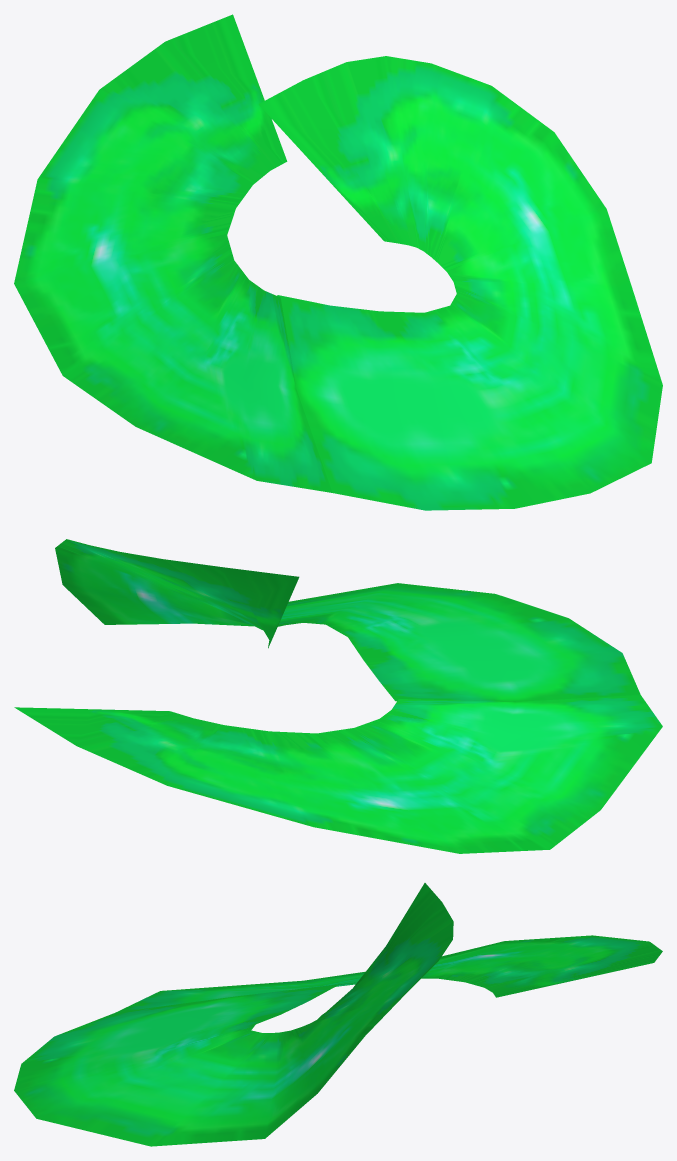
File: effect_liubei_self_4.FBX
The picture shows the model from 3 angles, top to bottom: view 1: azimuth 30°, elevation 25°; view 2: azimuth 150°, elevation 25°; view 3: azimuth 270°, elevation 25°; orthographic projection. The views are drawn at different scales.
Visible parts, largest first — view 1: effect_liubei_self_4_1, effect_liubei_self_4_2; view 2: effect_liubei_self_4_2, effect_liubei_self_4_1; view 3: effect_liubei_self_4_1, effect_liubei_self_4_2.
Part boxes in pixels (<box>): effect_liubei_self_4_1: <box>258,56,662,510</box>; effect_liubei_self_4_2: <box>14,14,332,492</box>; effect_liubei_self_4_2: <box>14,695,662,853</box>; effect_liubei_self_4_1: <box>55,539,640,701</box>; effect_liubei_self_4_1: <box>14,883,453,1146</box>; effect_liubei_self_4_2: <box>116,935,662,1012</box>.
Size of the model in its own units: 328 by 143 by 464.
2 materials, 2 textured.
